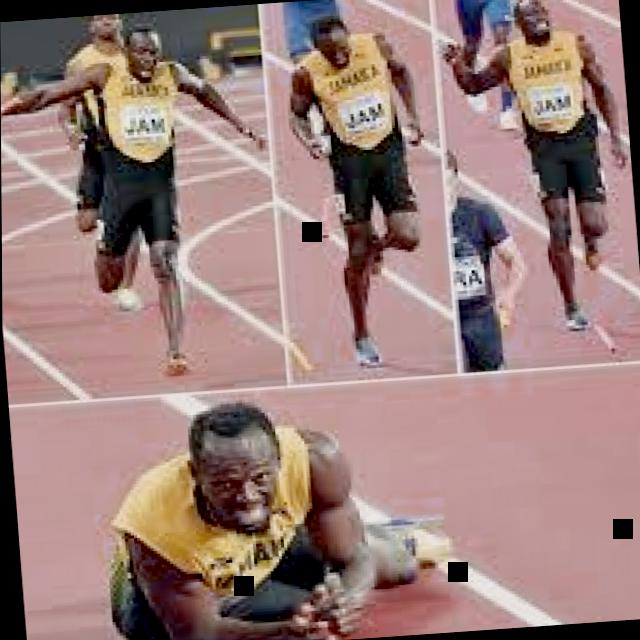Fall-Detected: (71, 367, 448, 640)
